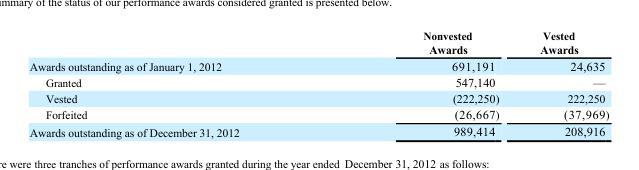table: (28, 28, 608, 138)
table column: (28, 28, 330, 138), (330, 28, 518, 138), (518, 28, 608, 138)
table column header: (28, 28, 608, 57)
table row: (28, 28, 608, 57), (28, 73, 608, 90), (28, 57, 608, 73), (28, 90, 608, 106), (28, 106, 608, 122), (28, 122, 608, 138)
